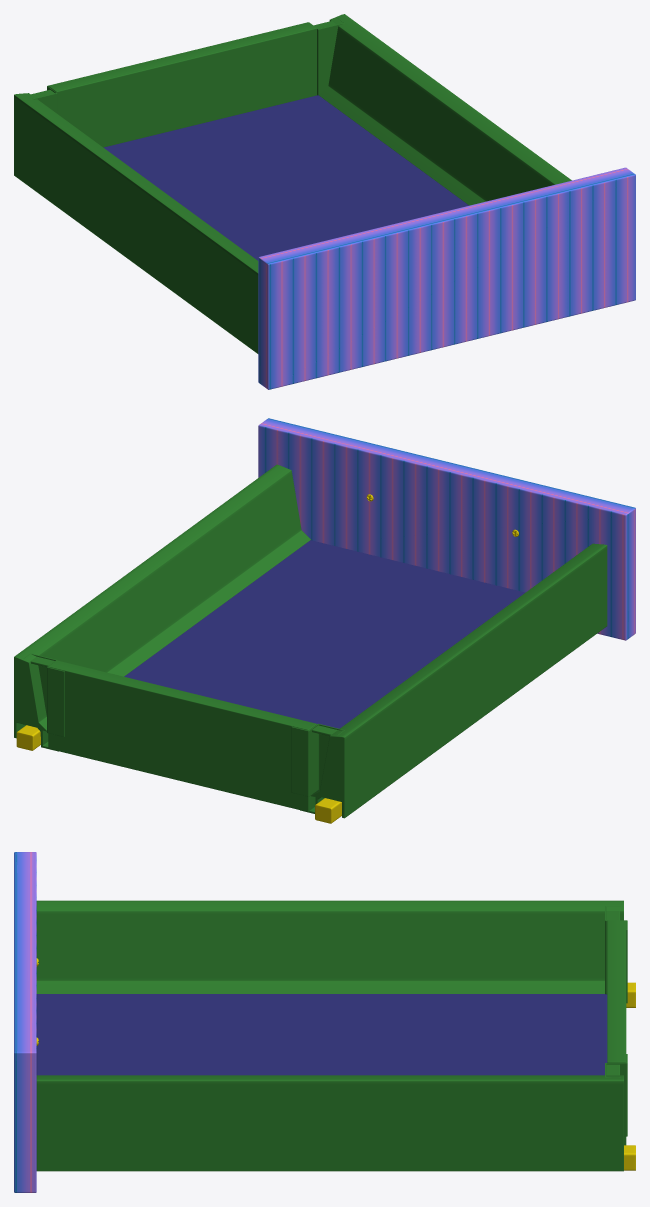
The model's file is SM_Kitchen_10_Drawer_01.fbx.
3 views of the same model, one above another, from view 1: azimuth 30°, elevation 25°; view 2: azimuth 150°, elevation 25°; view 3: azimuth 270°, elevation 25° (orthographic). The views are drawn at different scales.
Visible parts, largest first — view 1: SM_Kitchen_10_Drawer_01; view 2: SM_Kitchen_10_Drawer_01; view 3: SM_Kitchen_10_Drawer_01.
Part boxes in pixels (<box>): SM_Kitchen_10_Drawer_01: <box>14,14,635,389</box>; SM_Kitchen_10_Drawer_01: <box>14,418,635,823</box>; SM_Kitchen_10_Drawer_01: <box>14,852,635,1192</box>.
Bounding box in the file's own units: 39.7 × 13 × 51.99.
Materials: 4 (1 with a texture image).
